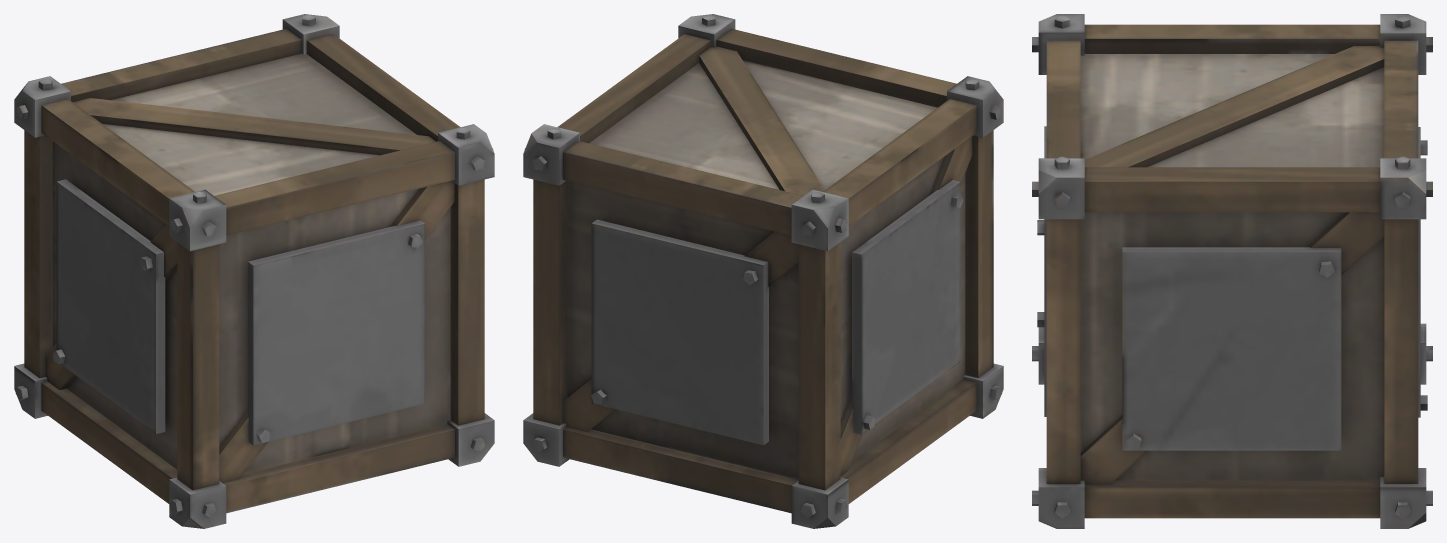
File: BuildingCrate1x1x1.glb
3 views of the same model, side by side, from view 1: azimuth 30°, elevation 25°; view 2: azimuth 150°, elevation 25°; view 3: azimuth 270°, elevation 25° (orthographic). The views are drawn at different scales.
Parts seen in each view (by area): view 1: BuildingCrate1x1x1; view 2: BuildingCrate1x1x1; view 3: BuildingCrate1x1x1.
Boxes of the visible parts, <box> form: BuildingCrate1x1x1: <box>14,14,494,528</box>; BuildingCrate1x1x1: <box>523,14,1003,528</box>; BuildingCrate1x1x1: <box>1032,14,1432,528</box>.
Bounding box in the file's own units: 0.6766 × 0.6766 × 0.6744.
1 material, 1 textured.
